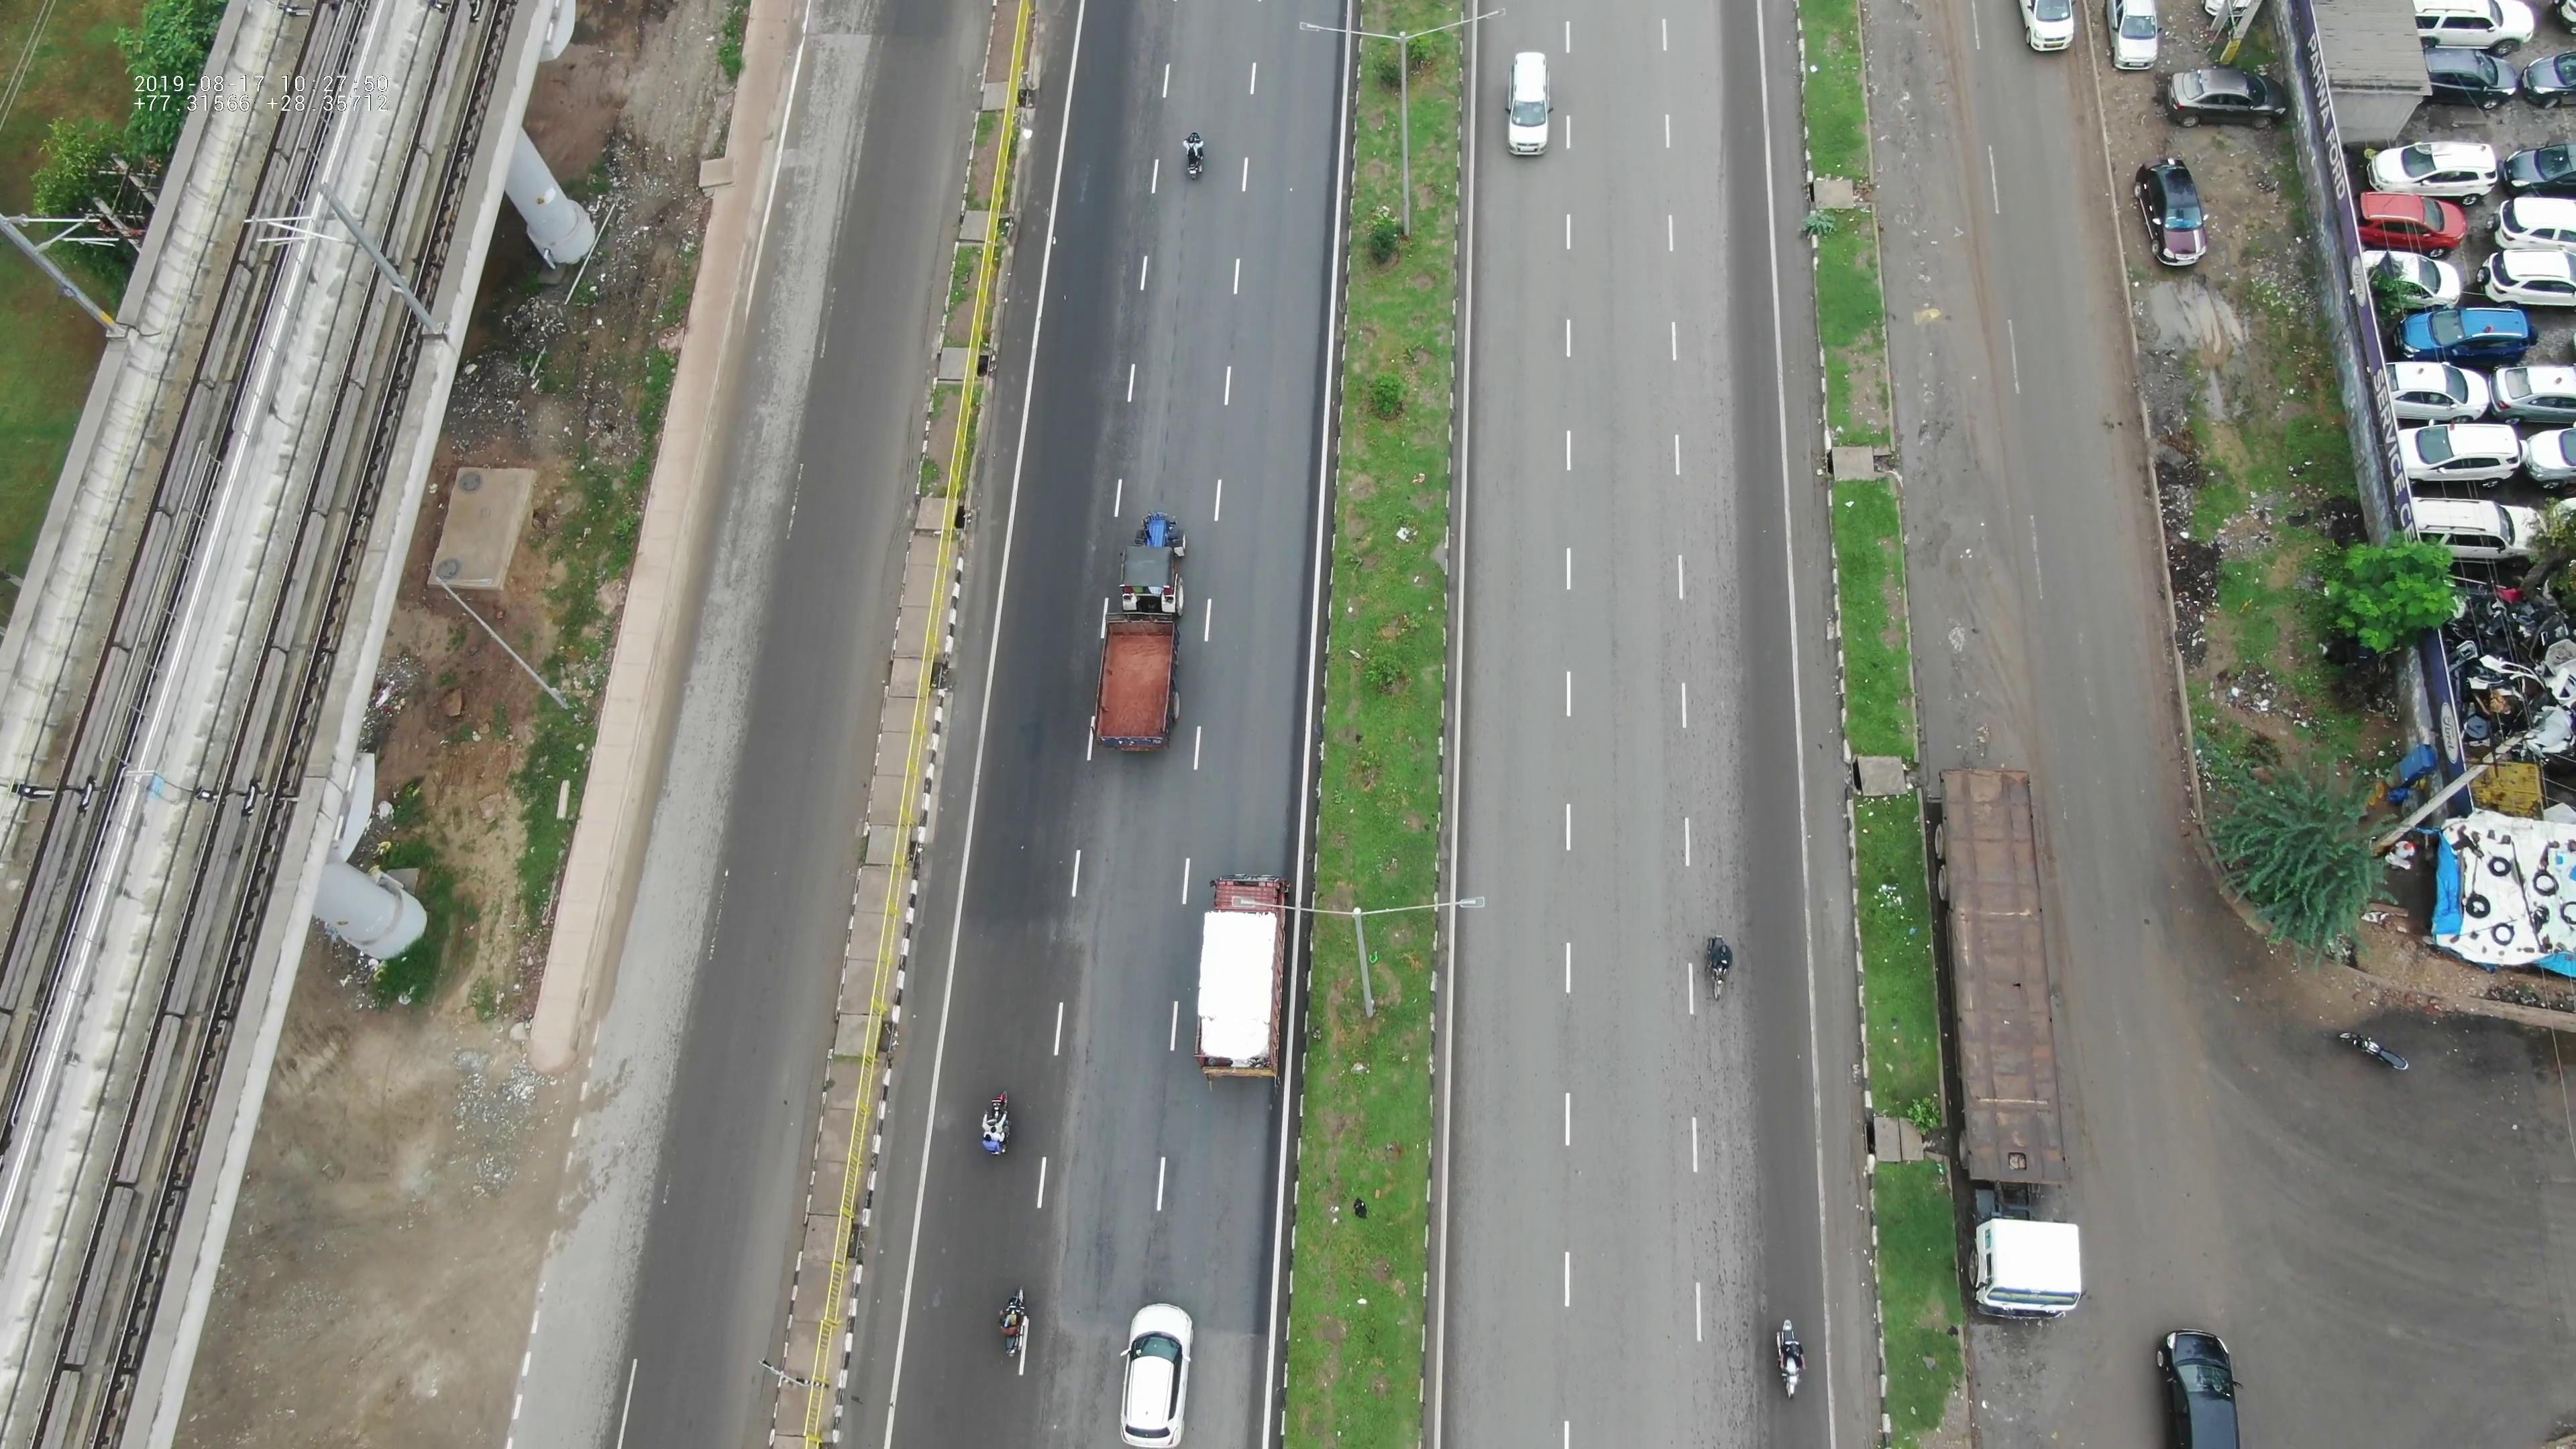Muddy_road: (1893, 308, 2020, 750), (1859, 0, 1996, 290)
